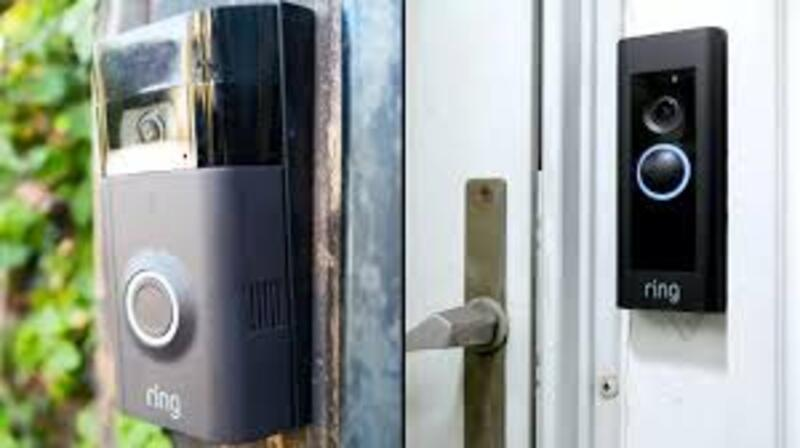doorbell: (85, 26, 314, 429), (605, 24, 735, 321)
